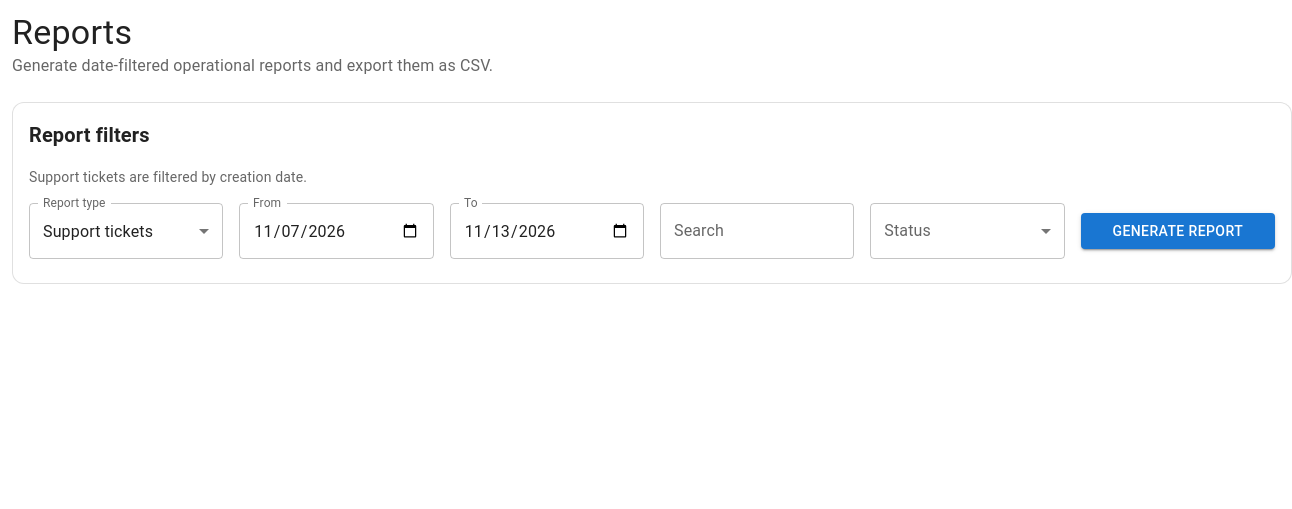
Test: ReportsPage › generates and previews the date-filtered support ticket report
The width and height of the screenshot is (1292, 509).
Click the button "Generate report" at (1178, 231), box [1081,213,1275,249]
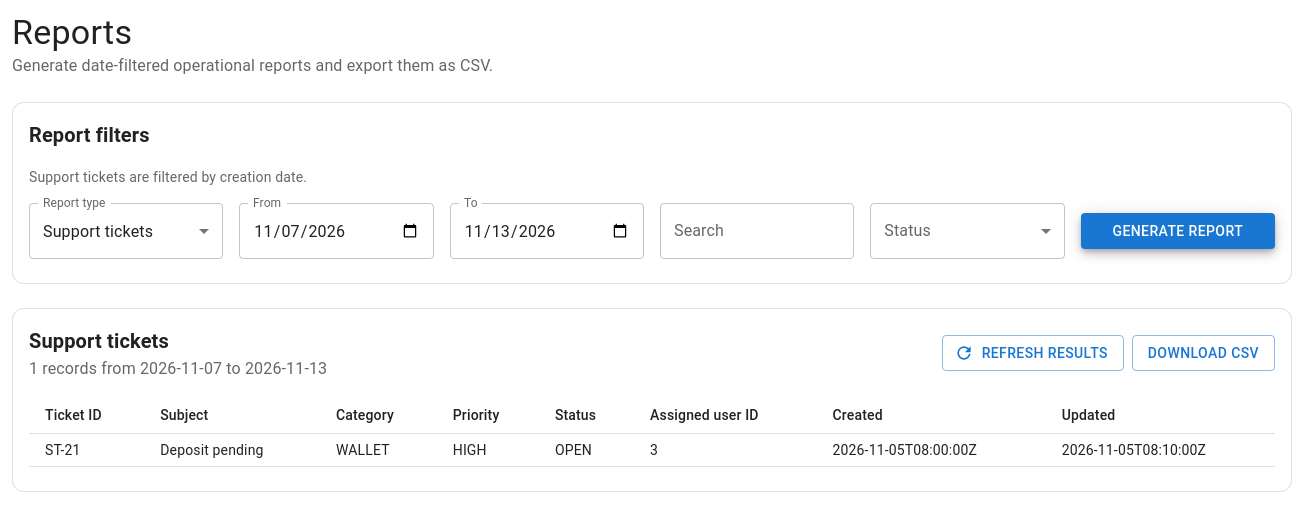
Expected: the text "ST-21" is shown, [29,434,144,466]
Expected: the text "Deposit pending" is shown, [144,434,320,466]
Expected: the button "Download CSV" is enabled, [1132,335,1275,371]
